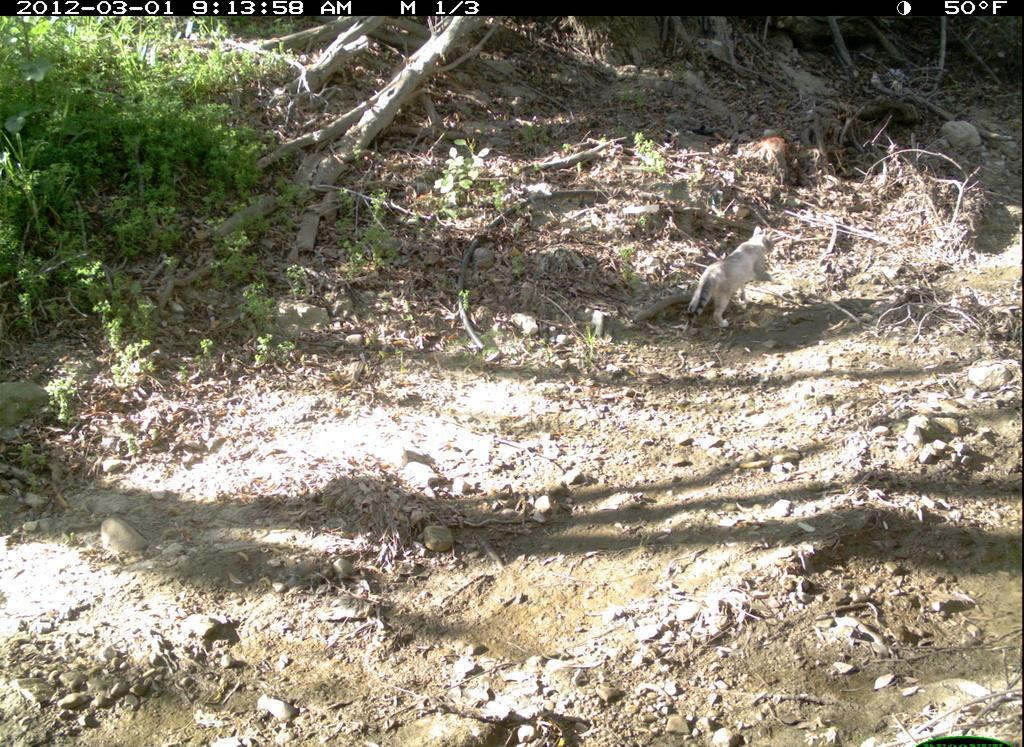cat: (675, 221, 784, 332)
